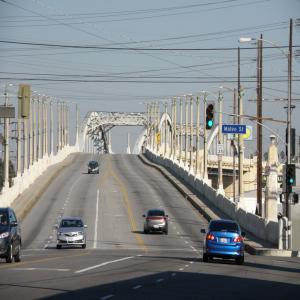Vehicle-registration-plate: (70, 239, 75, 243), (222, 240, 228, 243)
